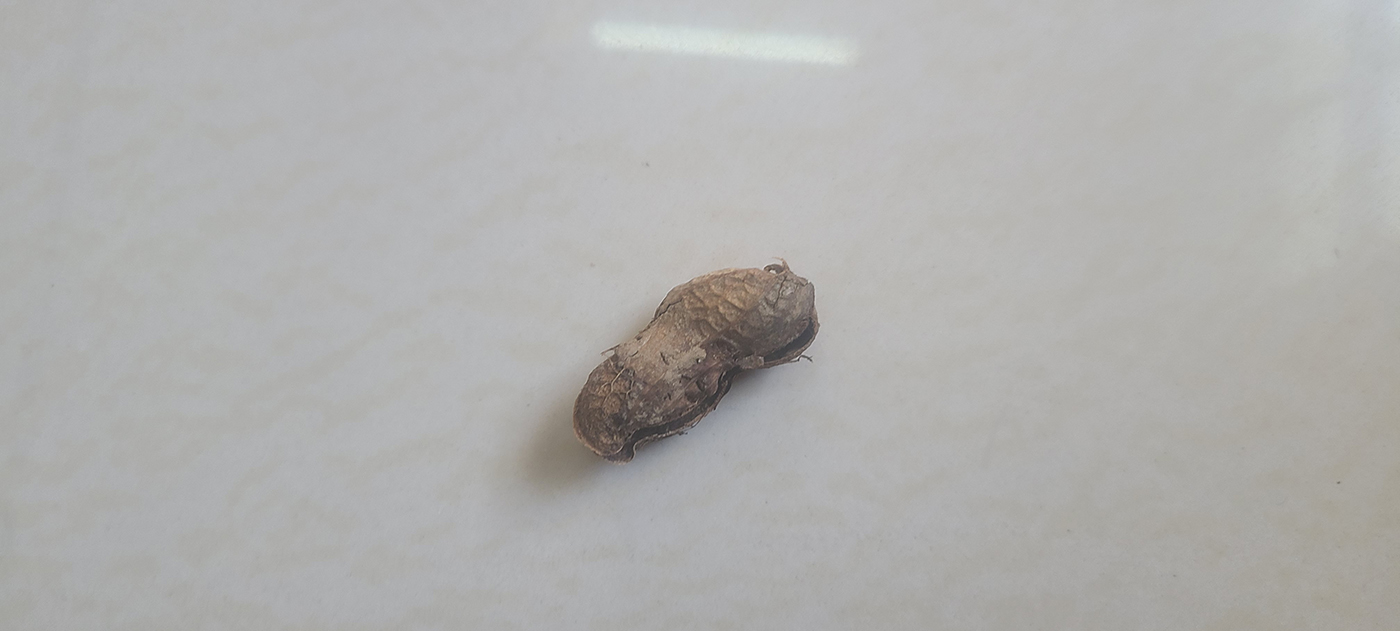l: (567, 264, 819, 465)
